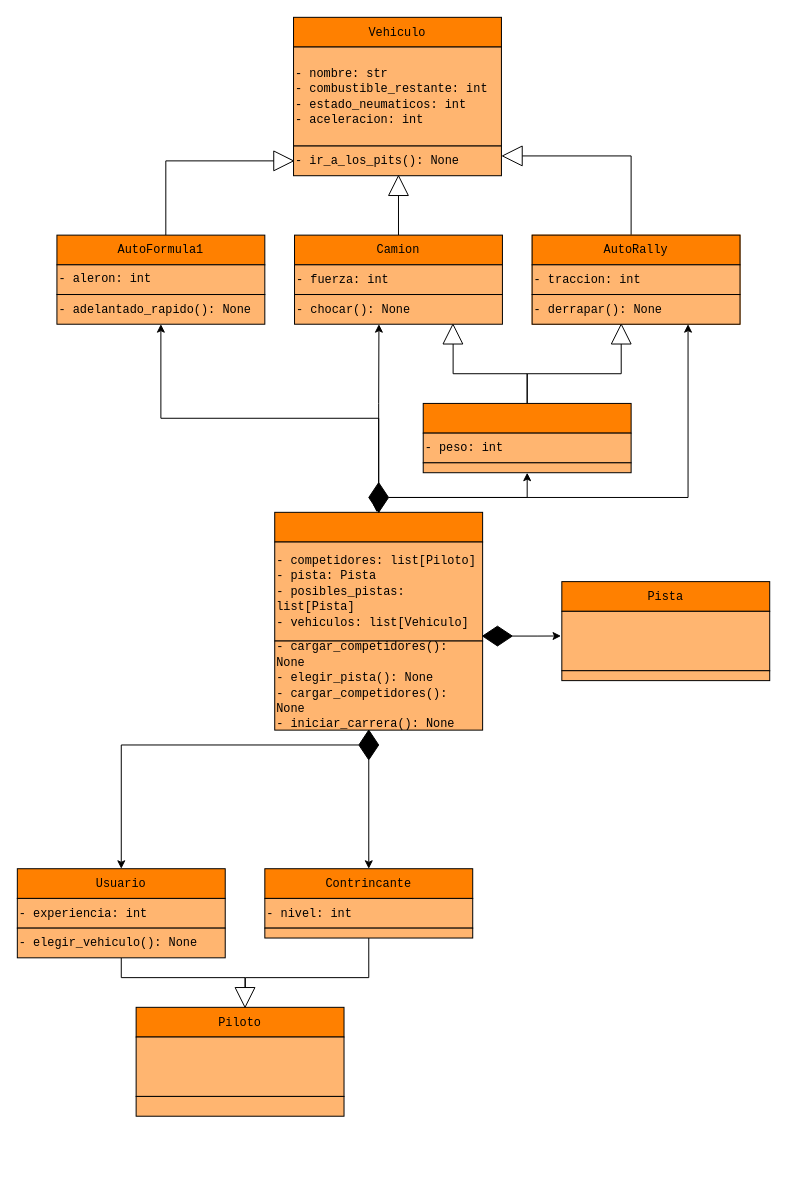
Image size: 787x1183. Some labels were removed from this diagram. Here are the shapes that lost their labels. From the top down, the centre of each, then its label:
At (526,417): "MonsterTruck".
At (378,526): "GrandPrix".
At (665,640): "- nombre: str - dificultad: int - numero_de_vueltas: int".
At (239,1066): "- nombre: str - habilidad: int - vehiculos: list".
